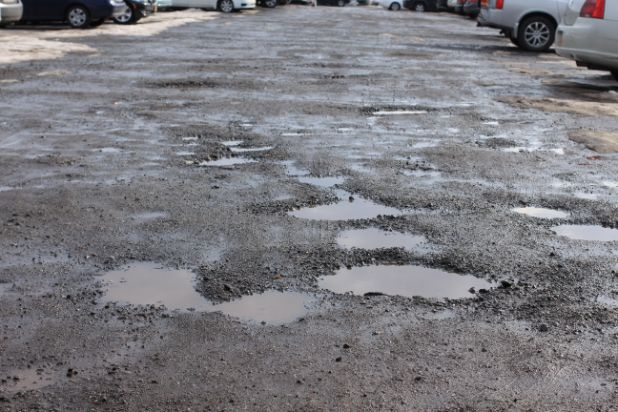pothole: (90, 253, 319, 329), (309, 252, 504, 306), (263, 192, 425, 219), (326, 225, 438, 253), (187, 138, 273, 170), (541, 220, 617, 243), (504, 198, 570, 222)
